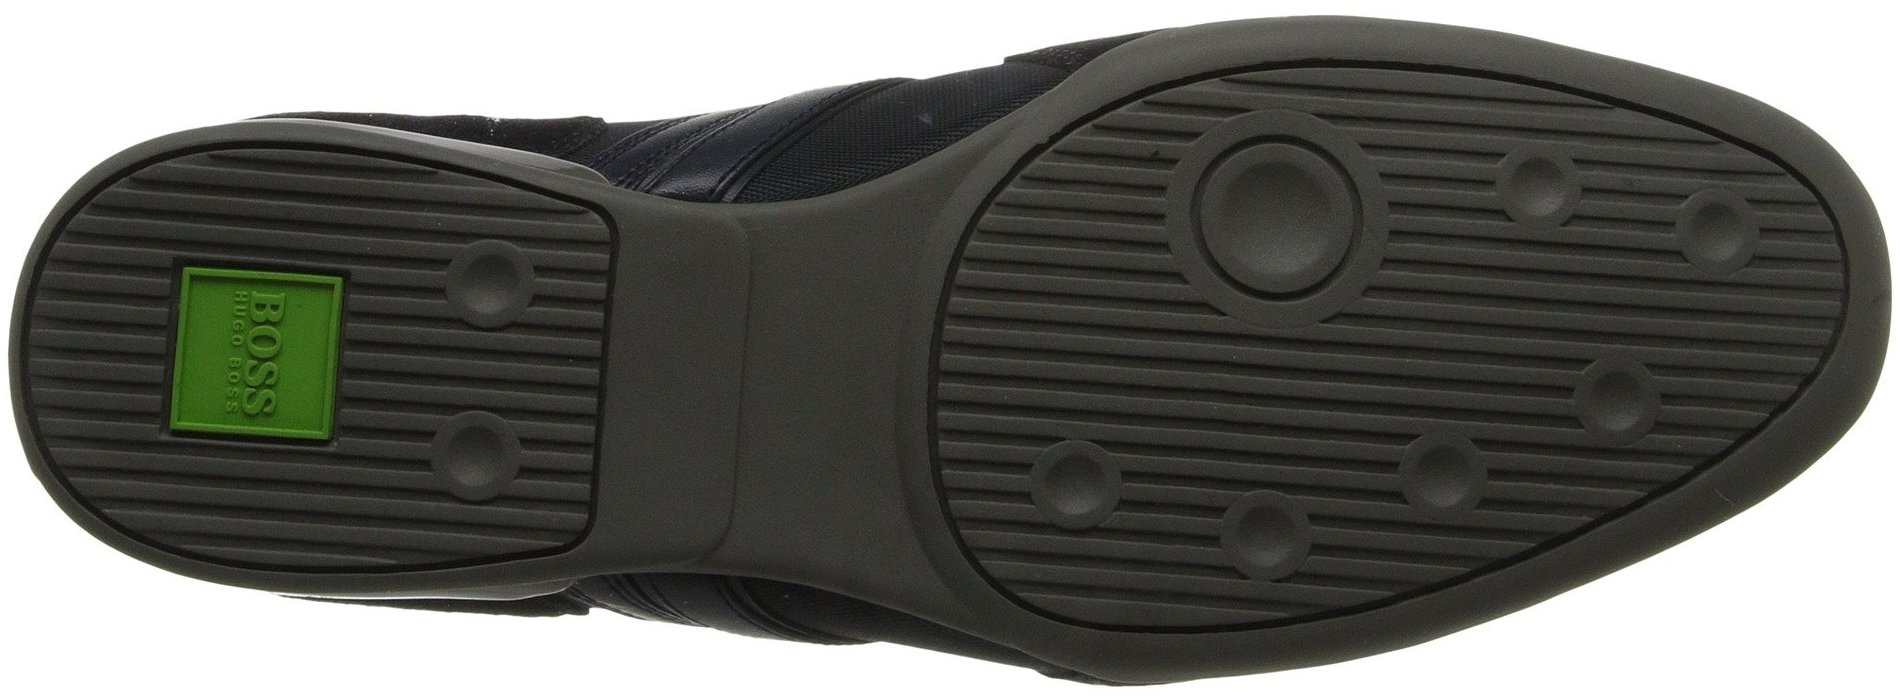circle: (1105, 103, 1448, 439), (110, 220, 364, 504), (384, 210, 572, 403)
line: (1105, 103, 1448, 439), (110, 220, 364, 504), (384, 210, 572, 403)
quad: (110, 220, 364, 504)
text: (110, 220, 364, 504)
